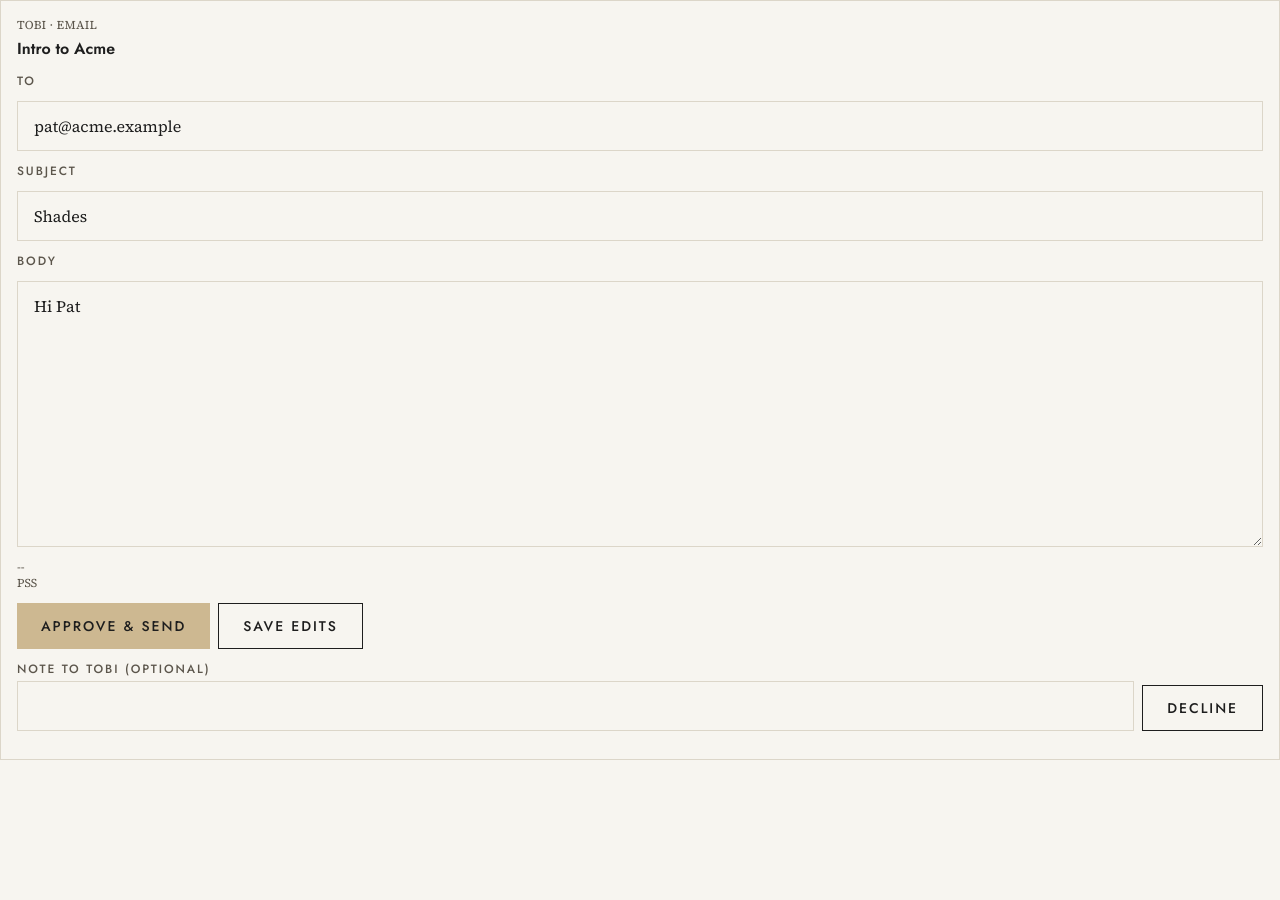
Test: EmailCard › shows a later send result after a save
Click the button "Save edits": (290, 626) [218, 603, 363, 649]
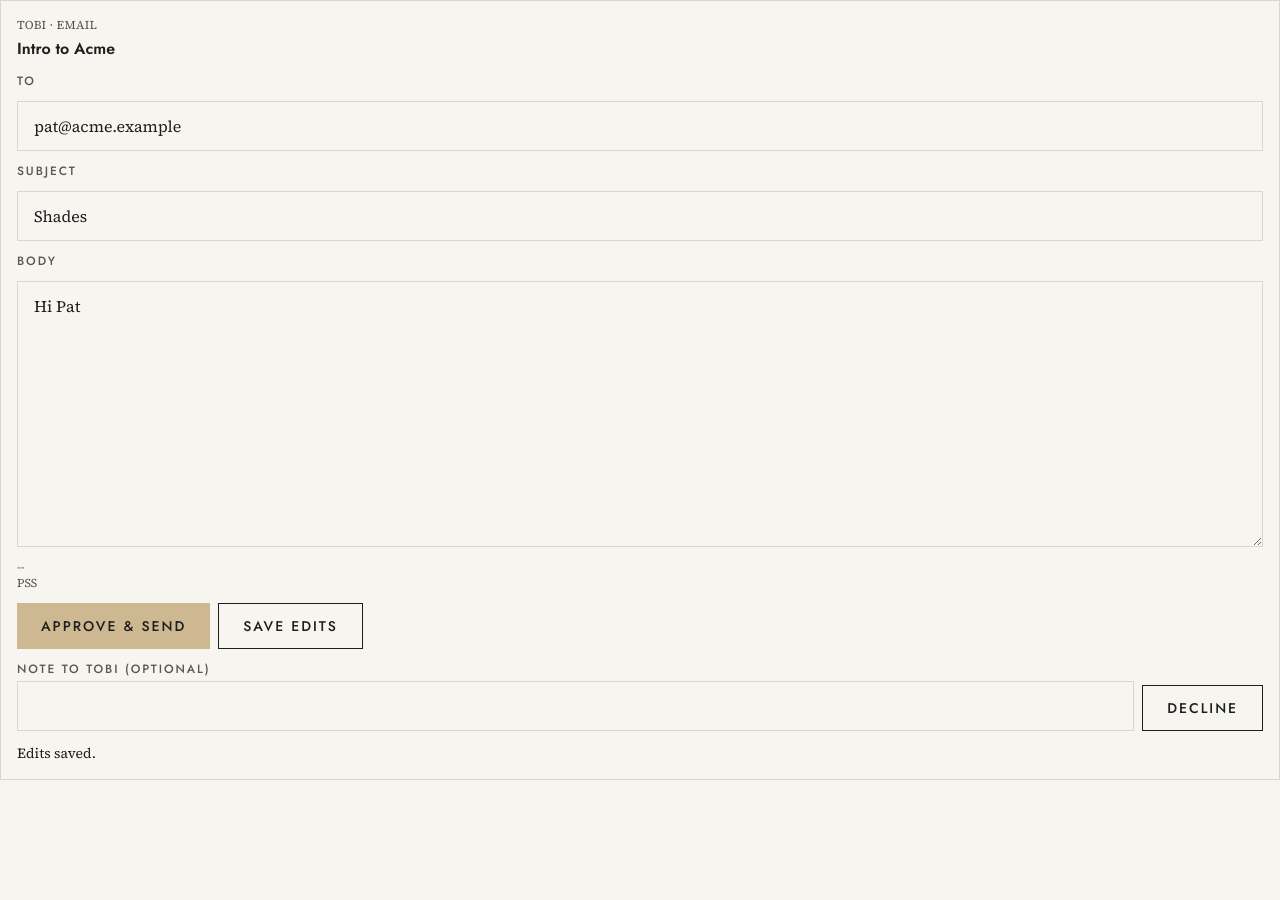
Check: the text "Edits saved." is shown, box [17, 743, 96, 763]
Click the button "Approve & send": (114, 626) [17, 603, 210, 649]
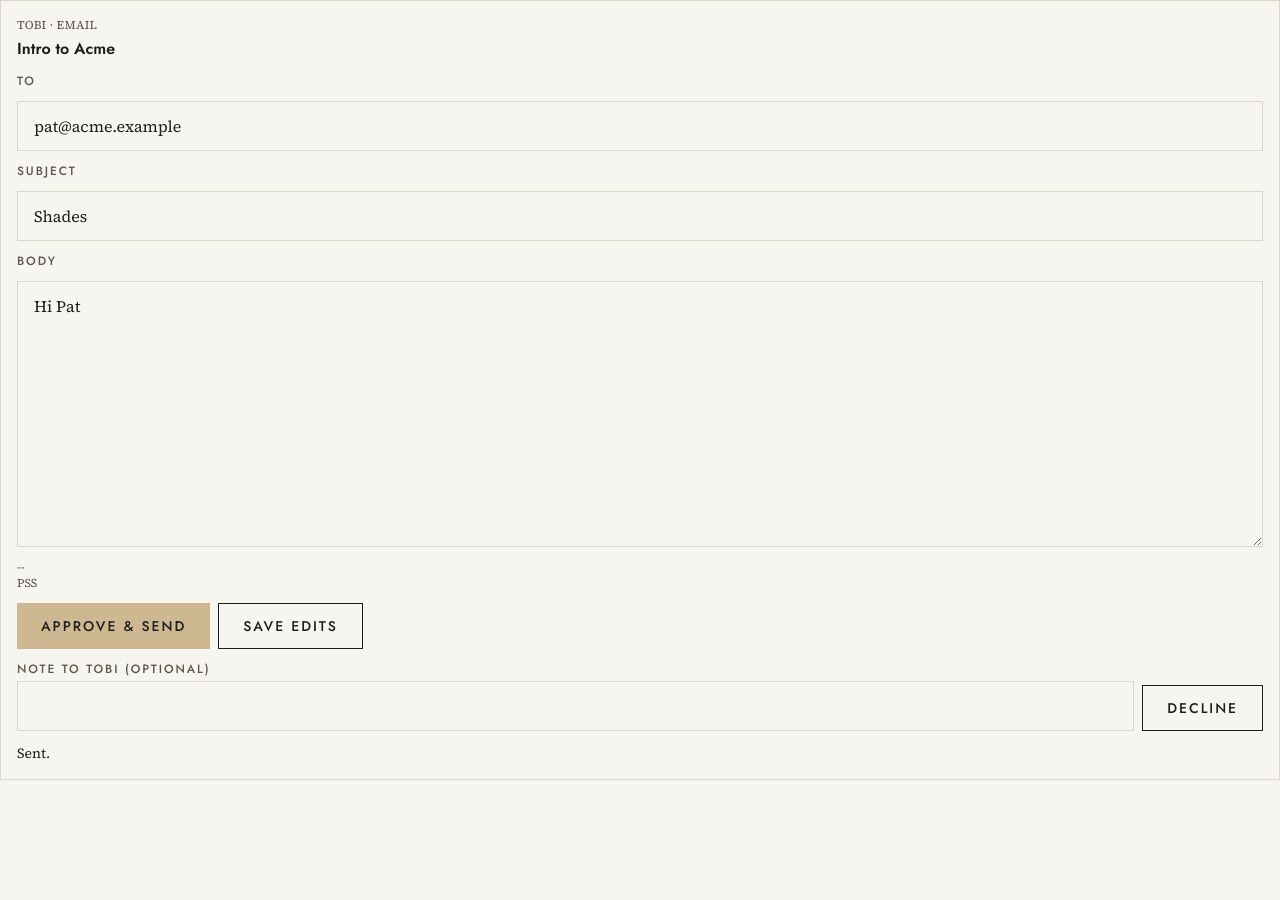
Check: the text "Sent." is shown, box [17, 743, 50, 763]
Check: the text "Edits saved." is gone
